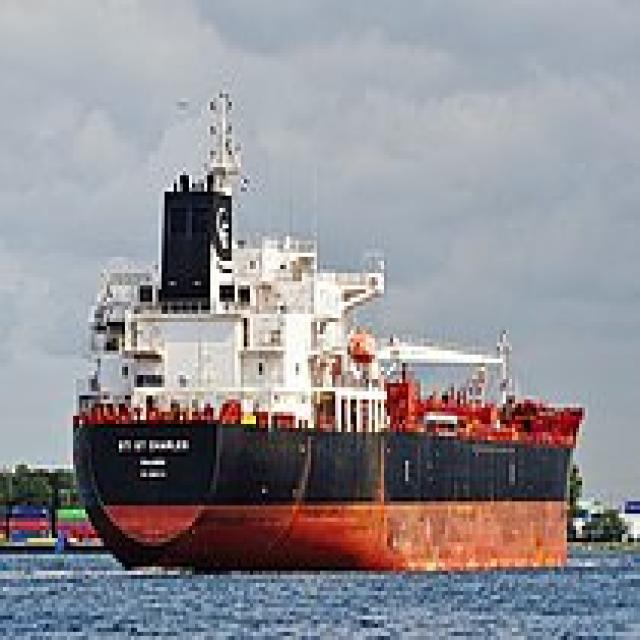Tanker: (64, 81, 588, 579)
